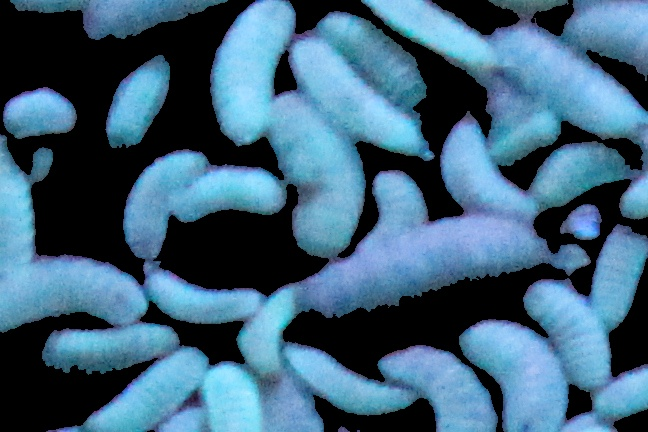larvae: (296, 219, 540, 323), (492, 17, 645, 133), (289, 39, 429, 160), (262, 94, 365, 253), (454, 317, 567, 431), (209, 1, 294, 145), (378, 344, 498, 432), (81, 350, 206, 432), (1, 255, 150, 323), (354, 1, 483, 79), (320, 14, 426, 106), (124, 152, 215, 258), (517, 281, 609, 384), (440, 112, 522, 218), (282, 347, 407, 415), (234, 279, 304, 381), (107, 56, 172, 156), (44, 326, 178, 373), (532, 137, 622, 204), (174, 167, 283, 219), (147, 277, 258, 327), (1, 136, 34, 298), (593, 225, 647, 322), (205, 361, 261, 432), (492, 112, 561, 168), (366, 172, 428, 234), (591, 363, 648, 424)
